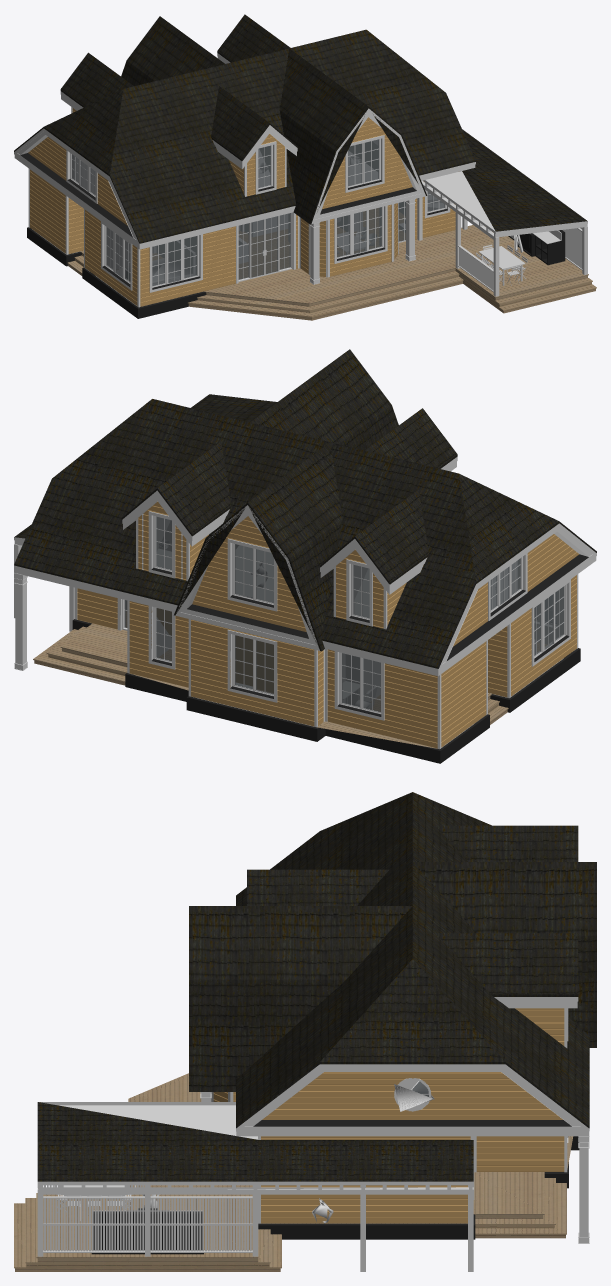
Rendered from suburbanHouse.glb.
The picture shows the model from 3 angles, top to bottom: view 1: azimuth 30°, elevation 25°; view 2: azimuth 150°, elevation 25°; view 3: azimuth 270°, elevation 25°; orthographic projection. The views are drawn at different scales.
Parts seen in each view (by area): view 1: roof_roof_0, white_white_0, floor_floor_0, siding_siding_0, glass_glass_0, object 4; view 2: roof_roof_0, siding_siding_0, white_white_0, glass_glass_0, object 4, floor_floor_0; view 3: roof_roof_0, white_white_0, siding_siding_0, floor_floor_0, object 4.
Boxes of the visible parts, left/top/right/bottom form: roof_roof_0: left=14, top=14, right=587, bottom=243; white_white_0: left=14, top=53, right=587, bottom=307; floor_floor_0: left=67, top=208, right=596, bottom=320; siding_siding_0: left=28, top=108, right=455, bottom=306; glass_glass_0: left=72, top=139, right=444, bottom=286; object 4: left=20, top=153, right=565, bottom=318; roof_roof_0: left=14, top=349, right=596, bottom=668; siding_siding_0: left=77, top=501, right=579, bottom=748; white_white_0: left=14, top=456, right=596, bottom=749; glass_glass_0: left=124, top=516, right=563, bottom=712; object 4: left=72, top=554, right=588, bottom=763; floor_floor_0: left=33, top=611, right=546, bottom=748; roof_roof_0: left=37, top=792, right=596, bottom=1181; white_white_0: left=37, top=997, right=589, bottom=1271; siding_siding_0: left=213, top=1008, right=564, bottom=1223; floor_floor_0: left=14, top=1073, right=573, bottom=1271; object 4: left=91, top=1120, right=579, bottom=1254.
Bounding box in the file's own units: 15 × 6.8 × 14.22.
6 materials, 2 textured.
